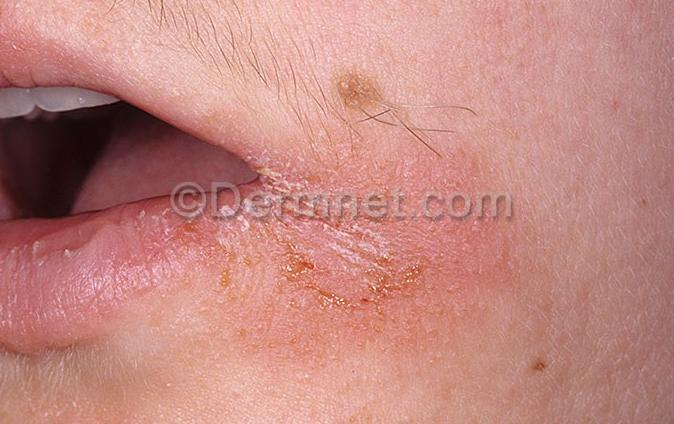eritema 1: (217, 146, 530, 368)
exudacion 1: (255, 163, 417, 313)
xerosis 1: (208, 148, 301, 246)
